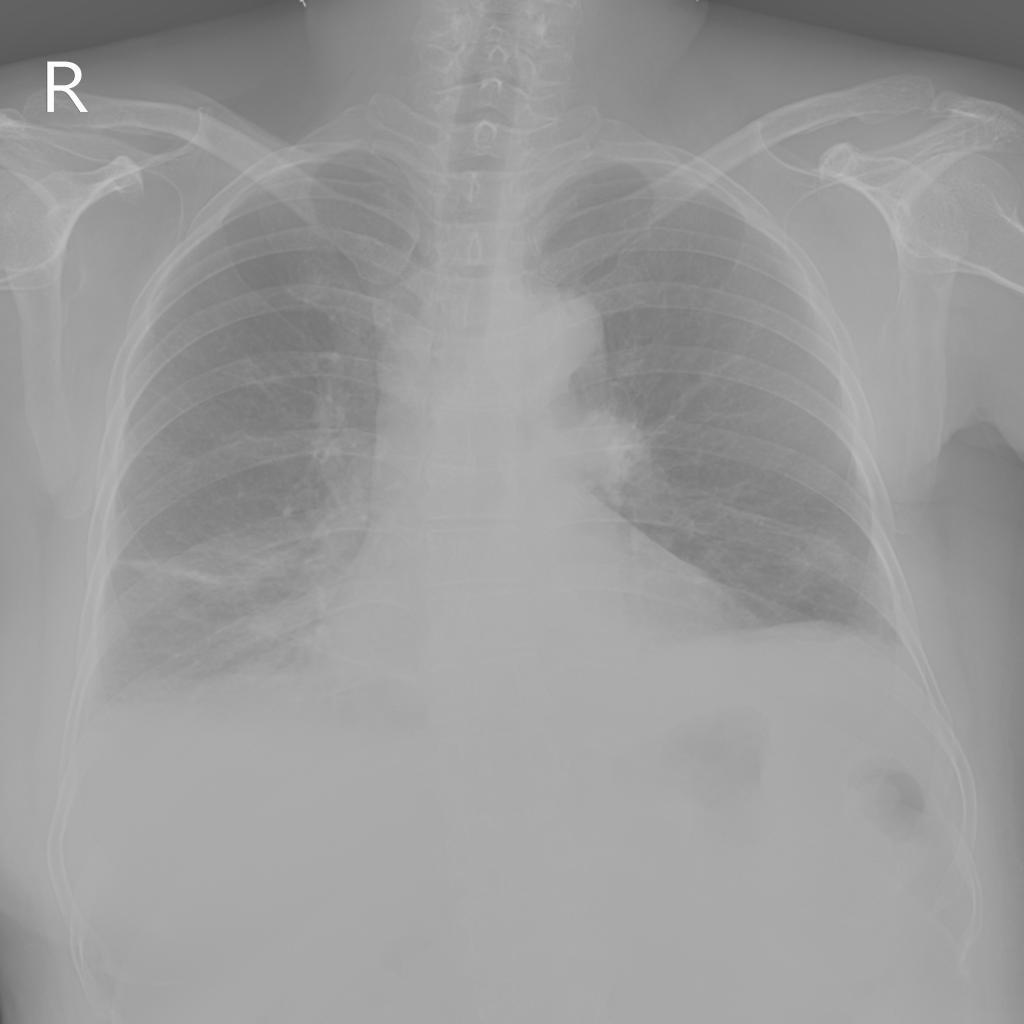Nodule: (556, 414, 652, 495)
